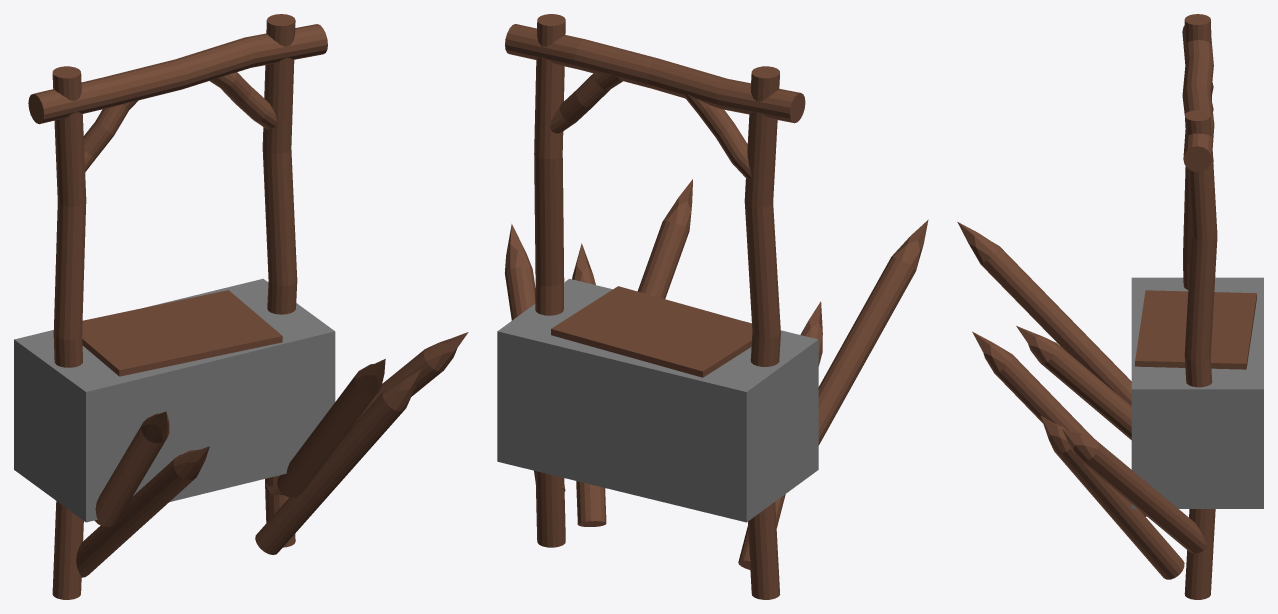
Rendered from SM_A_WoodBuildingKit_02.fbx.
The picture shows the model from 3 angles, left to right: view 1: azimuth 30°, elevation 25°; view 2: azimuth 150°, elevation 25°; view 3: azimuth 270°, elevation 25°; orthographic projection. The views are drawn at different scales.
Parts seen in each view (by area): view 1: SM_A_WoodenBeam_Tall_01.003; view 2: SM_A_WoodenBeam_Tall_01.003; view 3: SM_A_WoodenBeam_Tall_01.003.
Part boxes in pixels (box(x1,y1,x2,y2)): SM_A_WoodenBeam_Tall_01.003: box(14, 14, 468, 599); SM_A_WoodenBeam_Tall_01.003: box(497, 14, 928, 599); SM_A_WoodenBeam_Tall_01.003: box(957, 14, 1263, 599).
Bounding box in the file's own units: 293 × 232 × 400.
